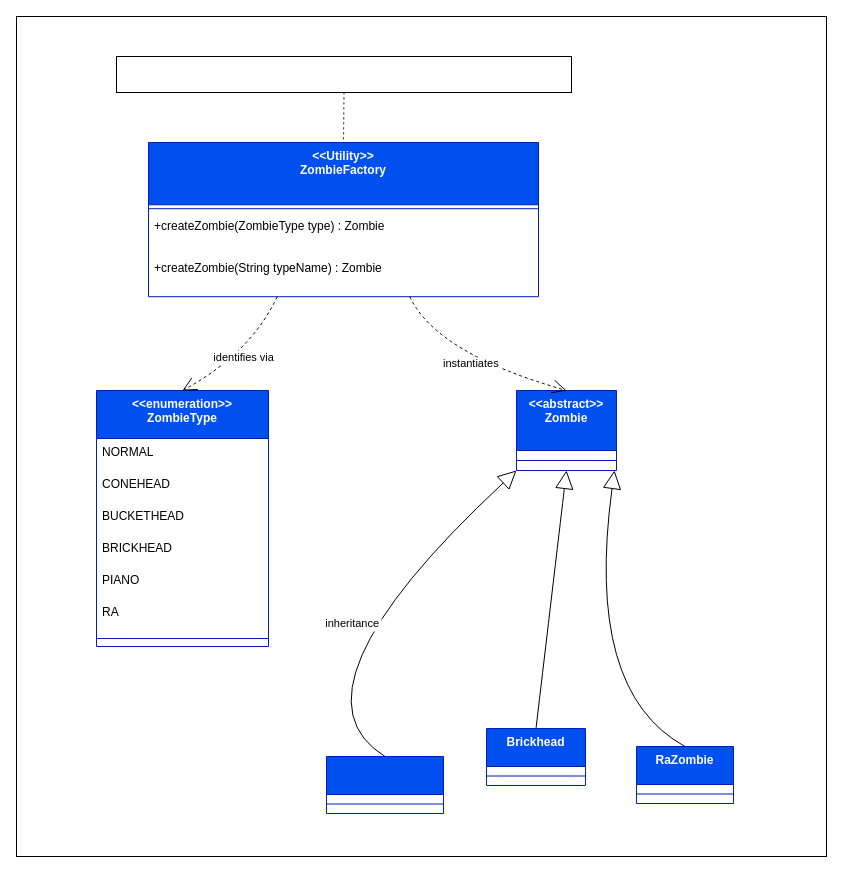
Image size: 843x873. Some labels were removed from this diagram. Here are the shapes that lost their labels. From the top down, the box of each, then its label:
(116, 56, 572, 92): Centralizes object creation and handles String parsing logic.
(326, 756, 444, 814): BasicZombie
